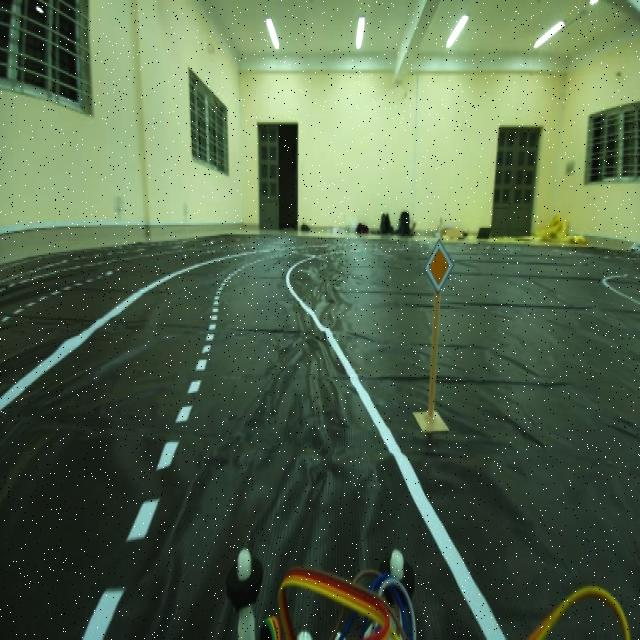priority: (424, 233, 456, 299)
